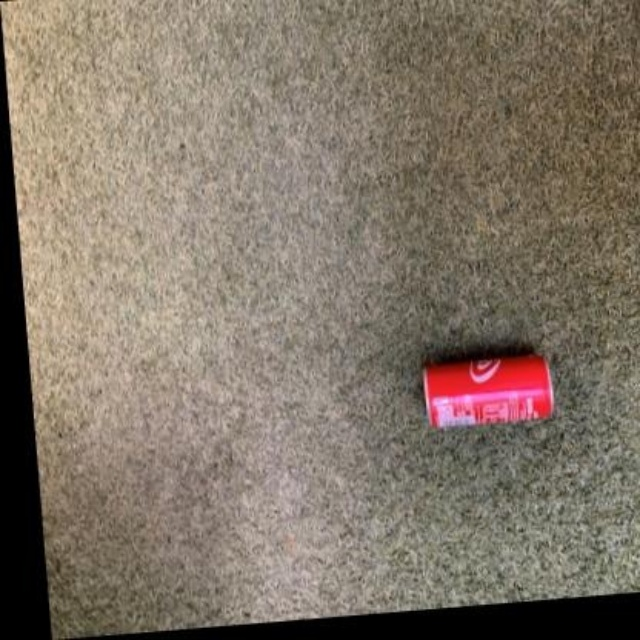trash: (425, 355, 552, 426)
